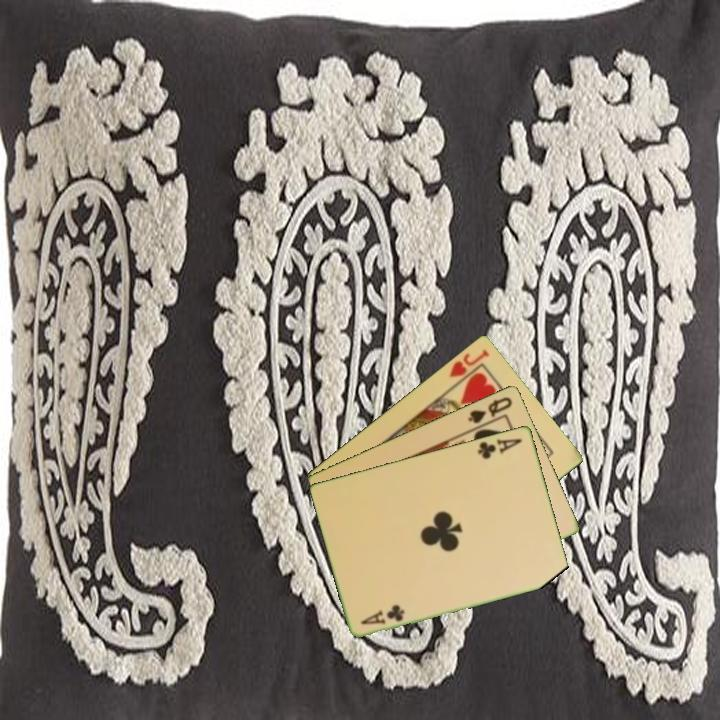Ac: (474, 434, 525, 462), (357, 601, 408, 627)
Jh: (445, 345, 492, 380)
Qs: (465, 393, 515, 426)
